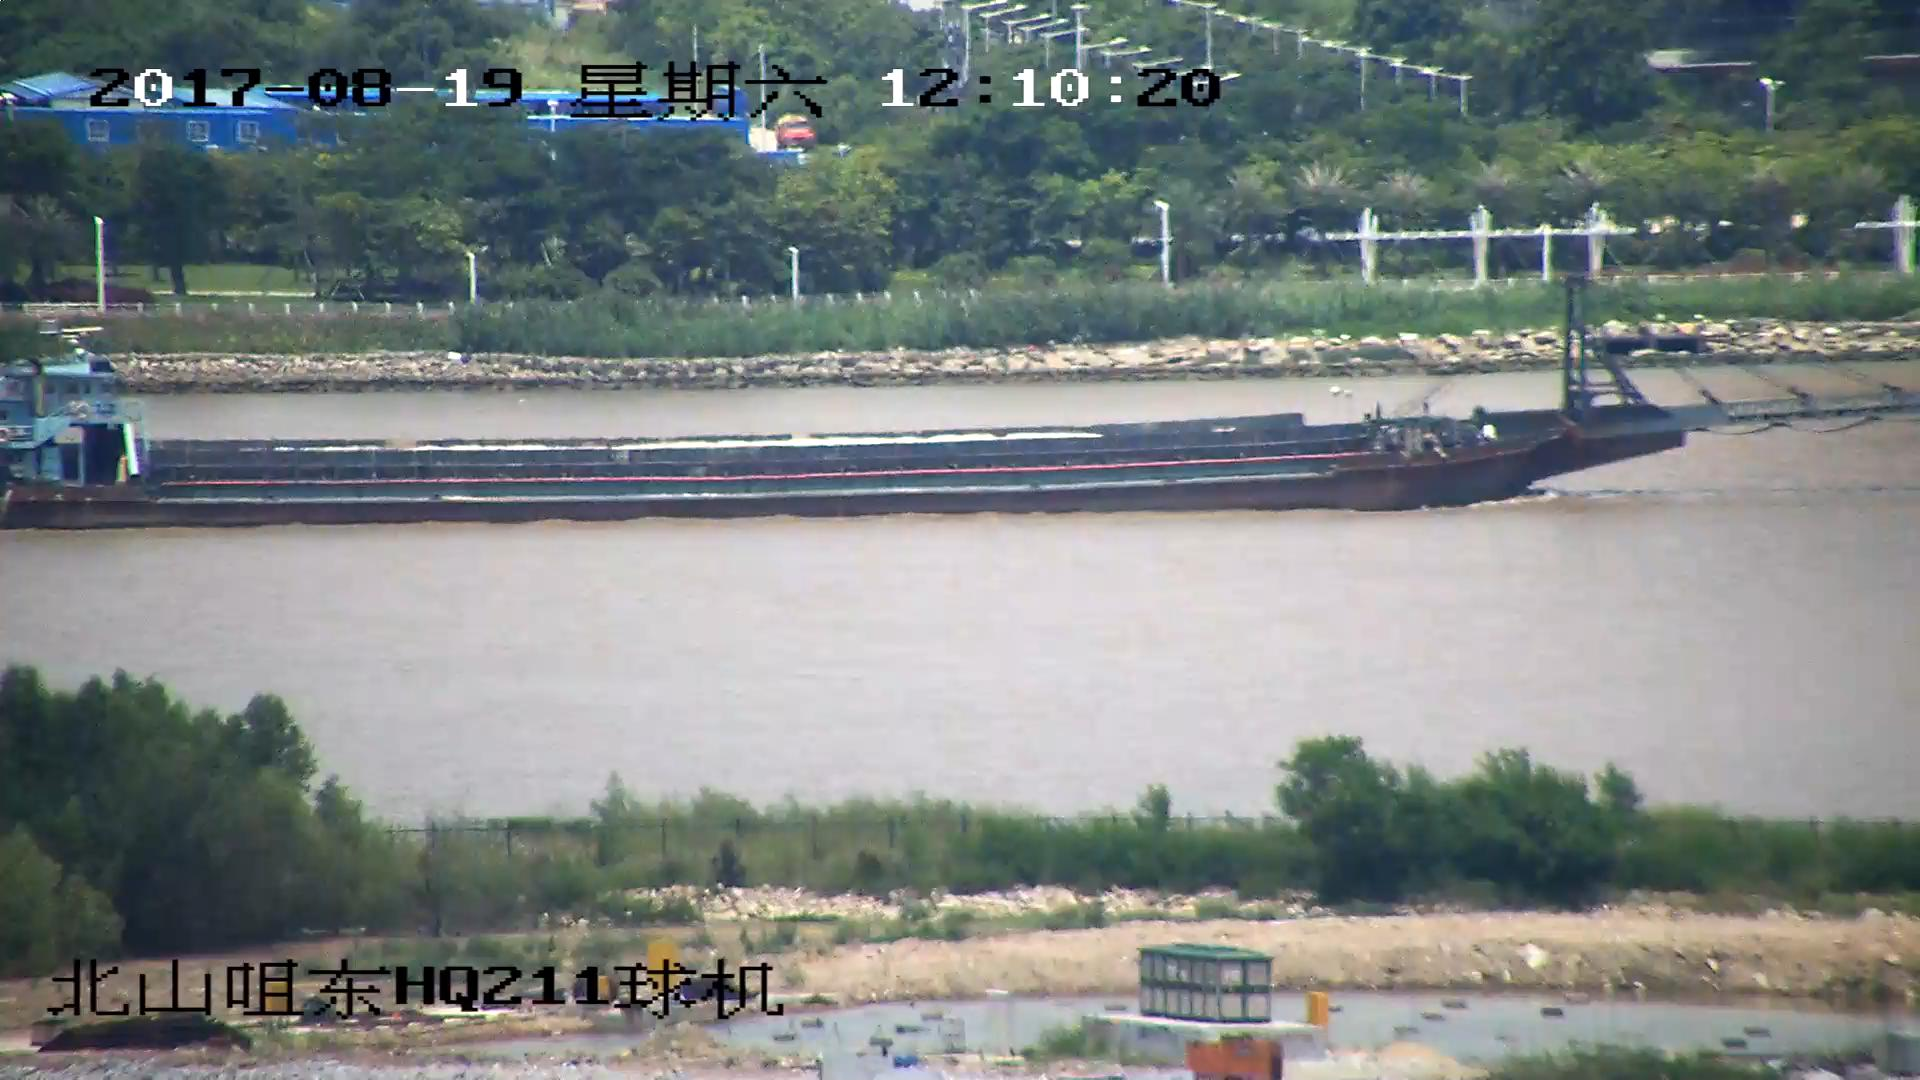bulk cargo carrier: (1, 266, 1920, 533)
